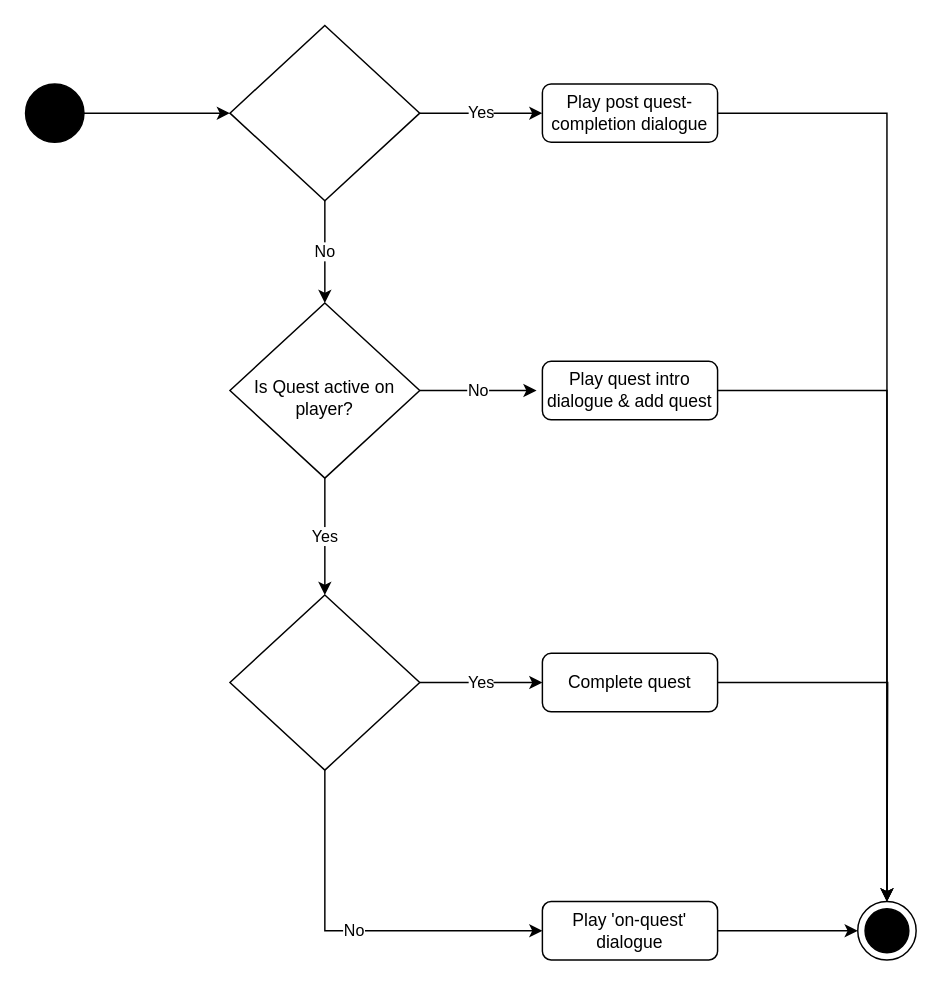
This 942x986 diagram has some shape labels left out. The centre of each missing label's shape, as x and y in pixels:
Has Quest been turned in?: (x=324, y=112)
Is Quest completed?: (x=324, y=681)
